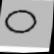no answer: (3, 7, 39, 36)
